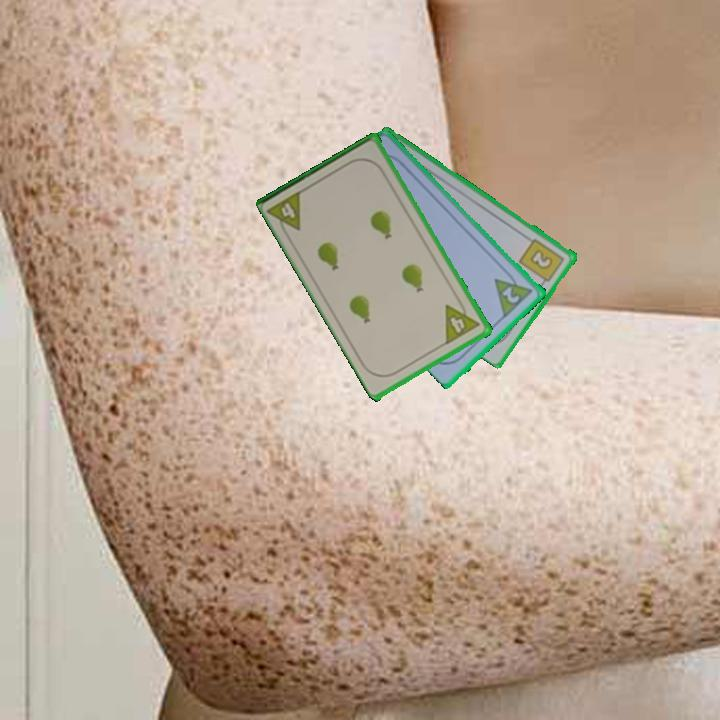2b: (516, 235, 568, 289)
2p: (491, 266, 537, 319)
4p: (265, 187, 306, 240), (442, 296, 483, 347)
